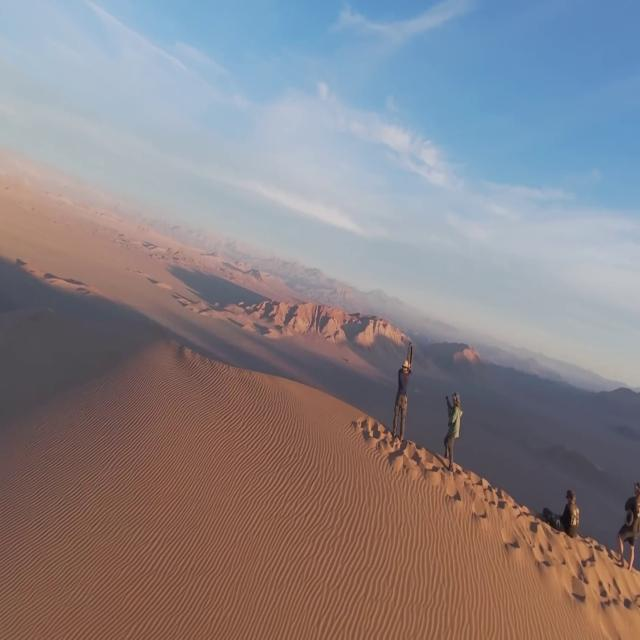Tire: (407, 341, 413, 368)
